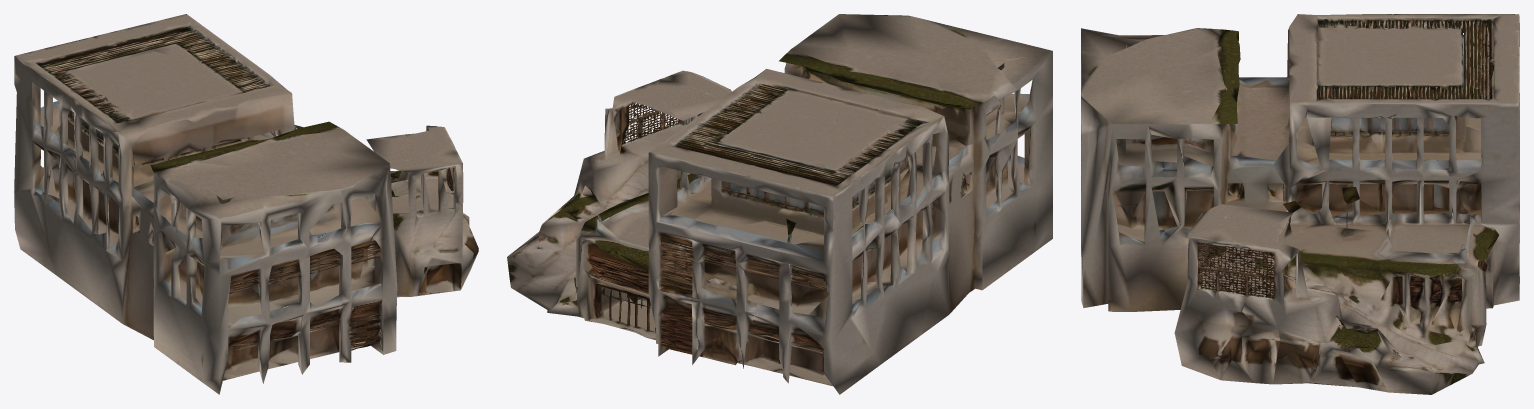
The model's file is shopstair_lod1.glb.
3 renders of one model, left to right at view 1: azimuth 30°, elevation 25°; view 2: azimuth 150°, elevation 25°; view 3: azimuth 270°, elevation 25°, orthographic. The views are drawn at different scales.
Parts seen in each view (by area): view 1: tripo_node_094b18f9-1ee7-409b-b2a1-6b250812594e; view 2: tripo_node_094b18f9-1ee7-409b-b2a1-6b250812594e; view 3: tripo_node_094b18f9-1ee7-409b-b2a1-6b250812594e.
Boxes of the visible parts, bbox=[...] form: tripo_node_094b18f9-1ee7-409b-b2a1-6b250812594e: bbox=[14, 14, 478, 394]; tripo_node_094b18f9-1ee7-409b-b2a1-6b250812594e: bbox=[507, 14, 1052, 394]; tripo_node_094b18f9-1ee7-409b-b2a1-6b250812594e: bbox=[1081, 14, 1519, 394].
Bounding box in the file's own units: 22.78 × 11.94 × 23.49.
1 material, 1 textured.
